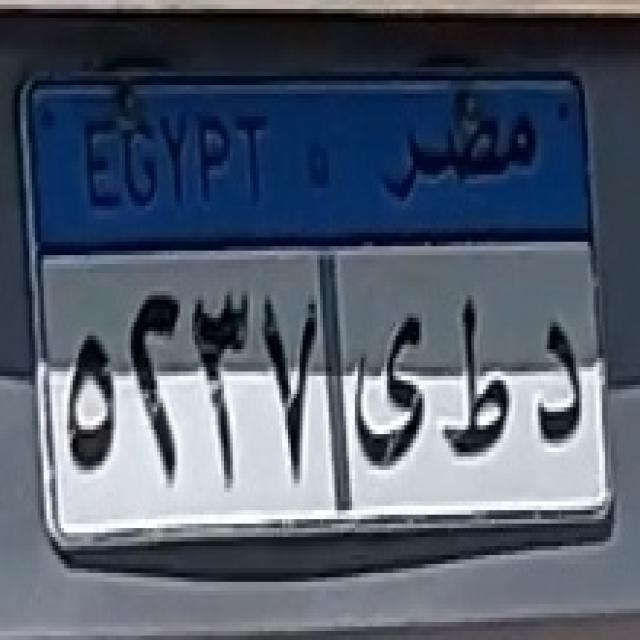2: (121, 278, 187, 484)
3: (188, 268, 254, 496)
5: (64, 328, 122, 478)
7: (255, 283, 317, 483)
Taa: (442, 281, 516, 468)
Yeeh: (354, 304, 422, 466)
daal: (528, 303, 588, 451)
